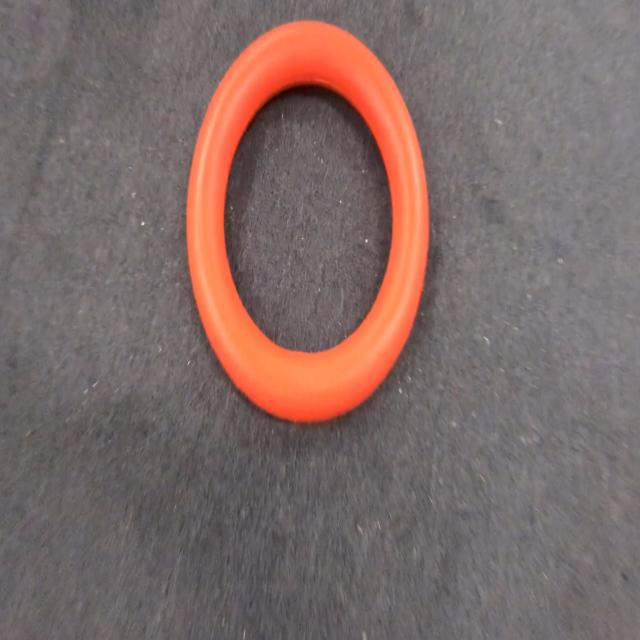note: (190, 16, 430, 422)
